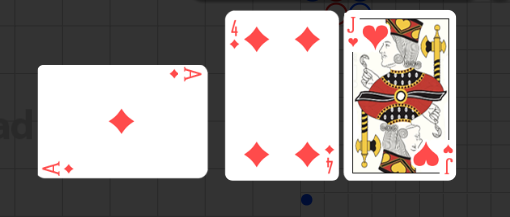4D: (323, 143, 336, 175)
AD: (42, 159, 76, 175)
JH: (442, 143, 455, 175)
